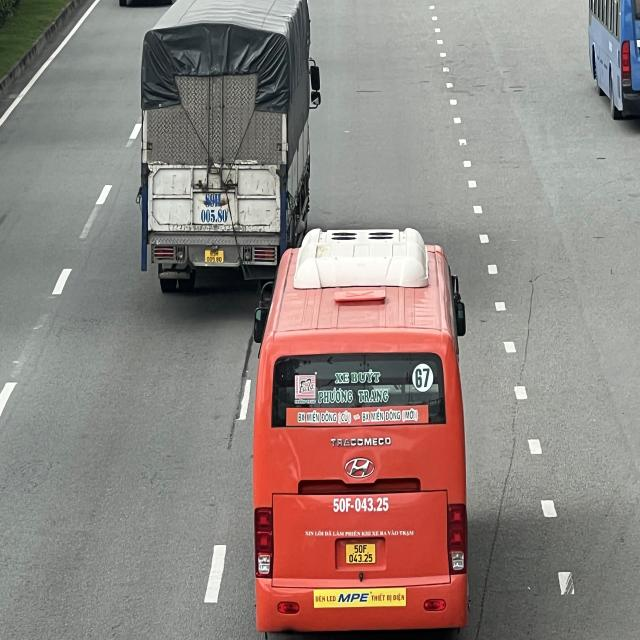coach: (252, 230, 472, 632)
truck: (142, 0, 314, 281)
